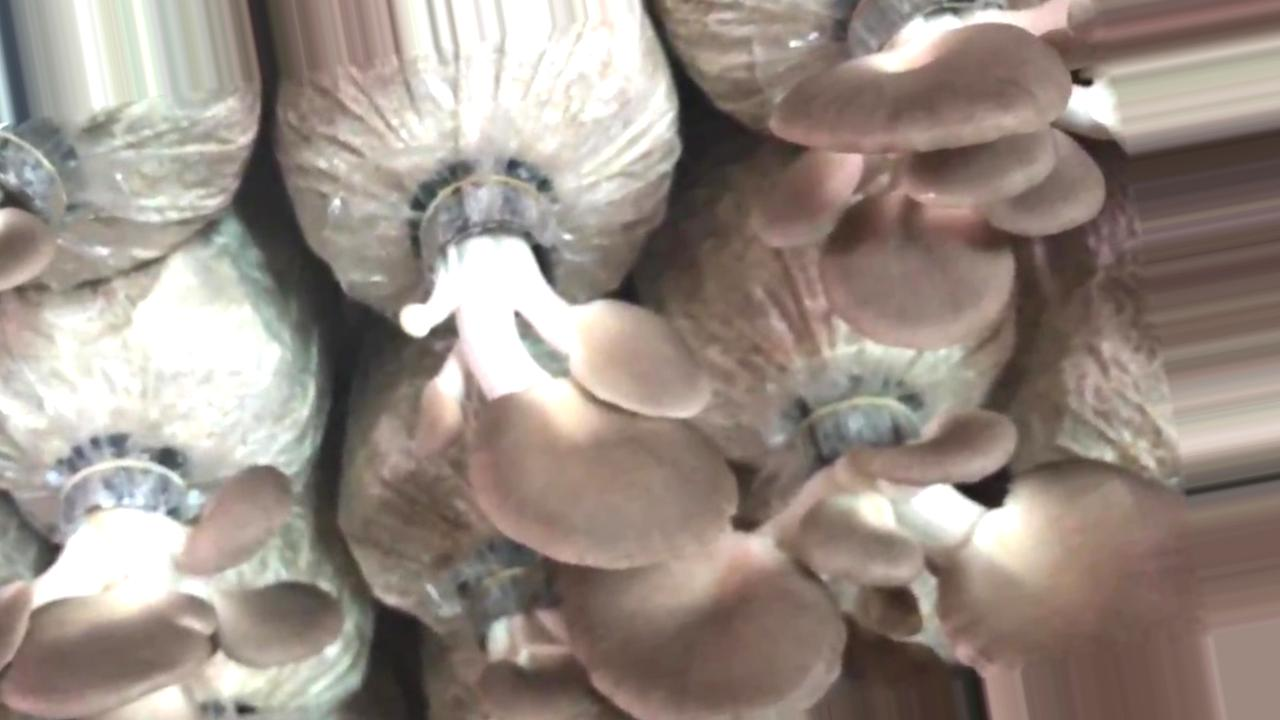nam: (563, 405, 1266, 720), (399, 153, 745, 577), (739, 1, 1110, 357), (2, 441, 348, 720)
